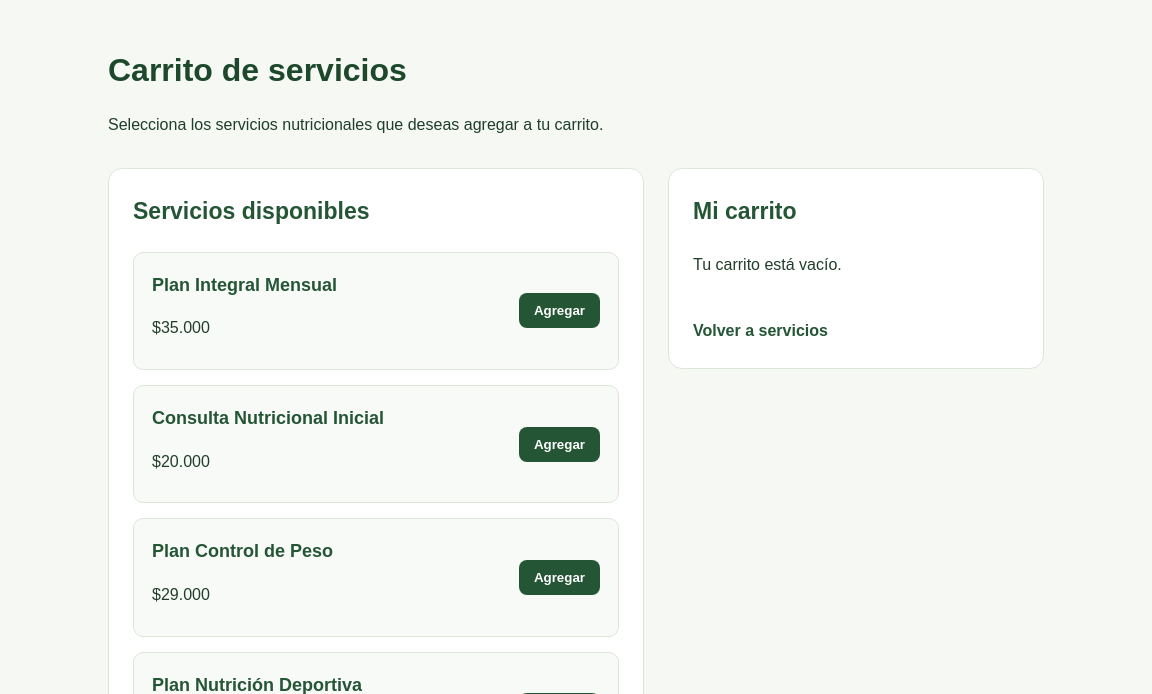
Test: Carrito de servicios NutriVida › Aumenta la cantidad y actualiza el total
Click the button "Agregar" in the row of "$35.000" at (559, 311), box [519,293,600,328]
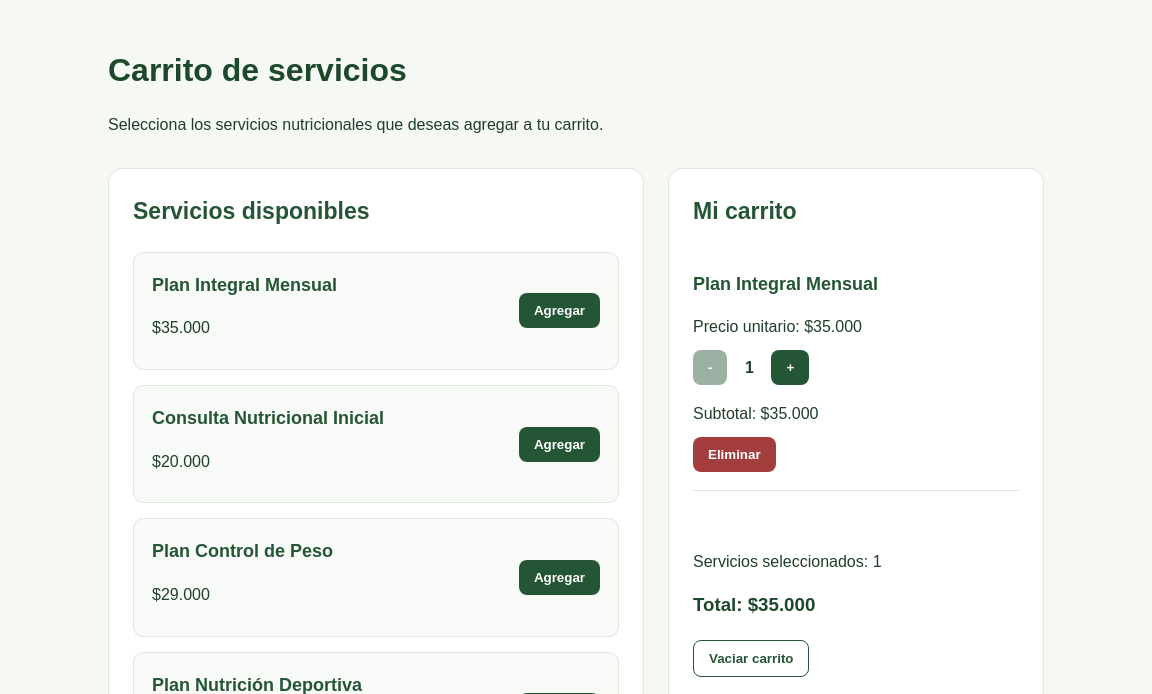
Click the button "+" at (790, 368), box [772,350,809,385]
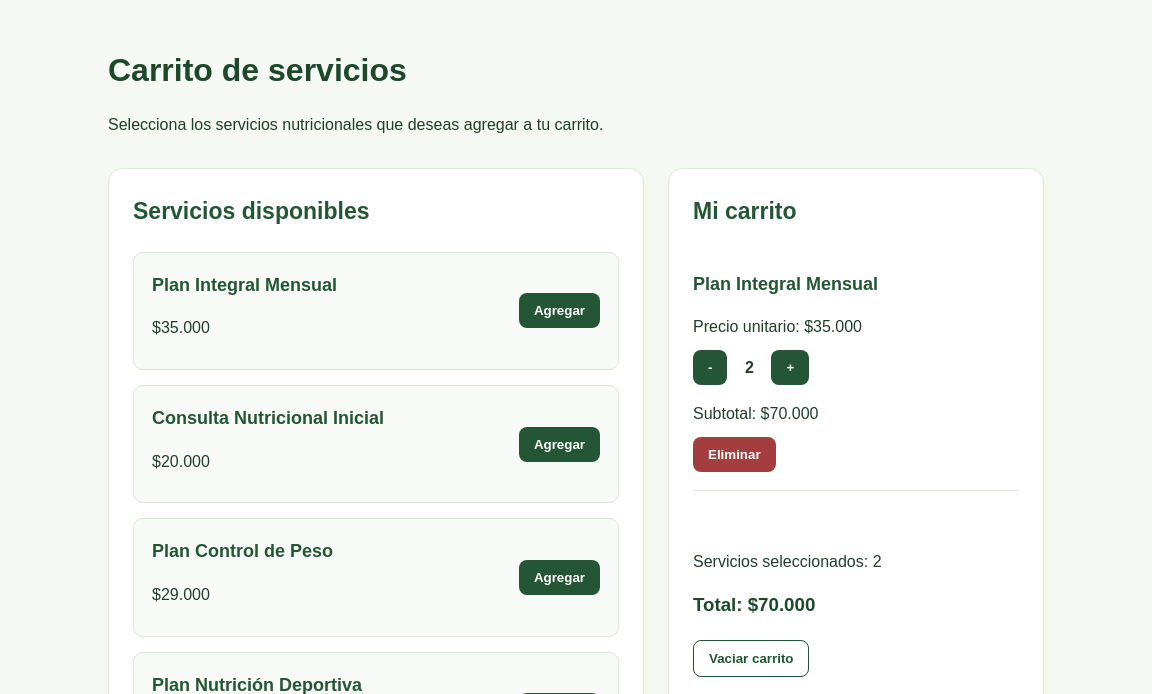
Expected: the text "Servicios seleccionados: 2" is shown, [693,553,882,570]
Expected: the heading "Total: $70.000" is shown, [693,594,815,615]
